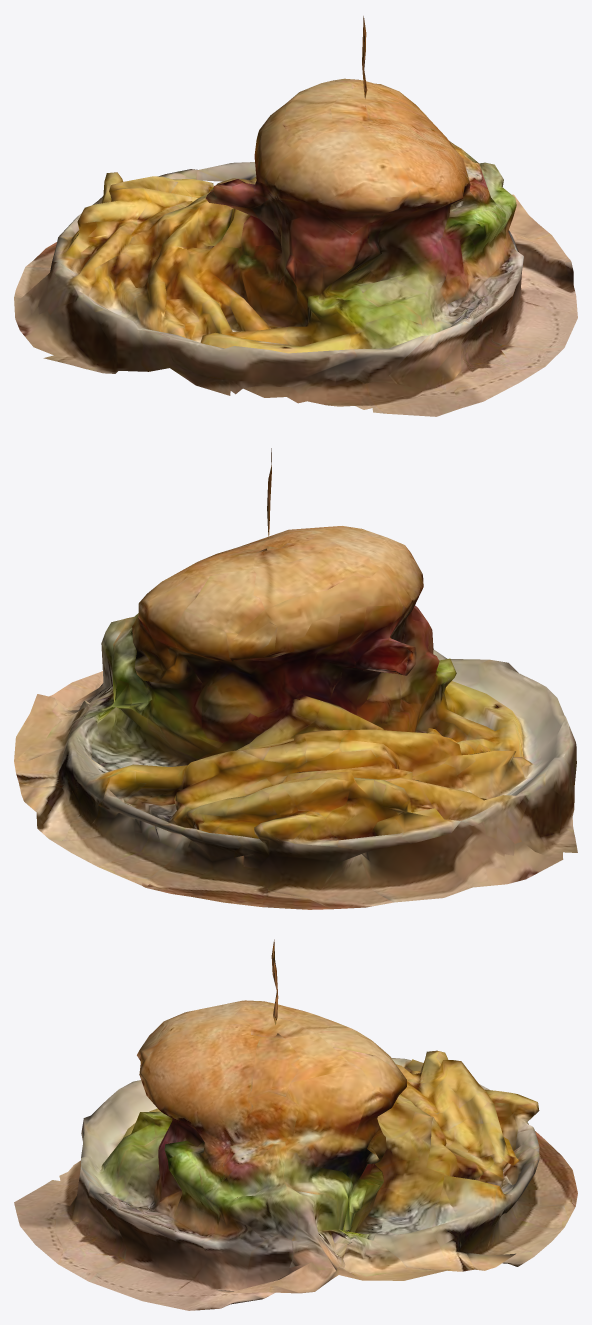
The model's file is food_burger.glb.
3 views of the same model, one above another, from view 1: azimuth 30°, elevation 25°; view 2: azimuth 150°, elevation 25°; view 3: azimuth 270°, elevation 25° (orthographic). The views are drawn at different scales.
Visible parts, largest first — view 1: Object_4; view 2: Object_4; view 3: Object_4.
Part boxes in pixels (x1,y1,x2,y2): Object_4: (14, 16, 577, 416); Object_4: (14, 448, 577, 909); Object_4: (14, 939, 577, 1310).
Bounding box in the file's own units: 0.265 × 0.1525 × 0.266.
1 material, 1 textured.
